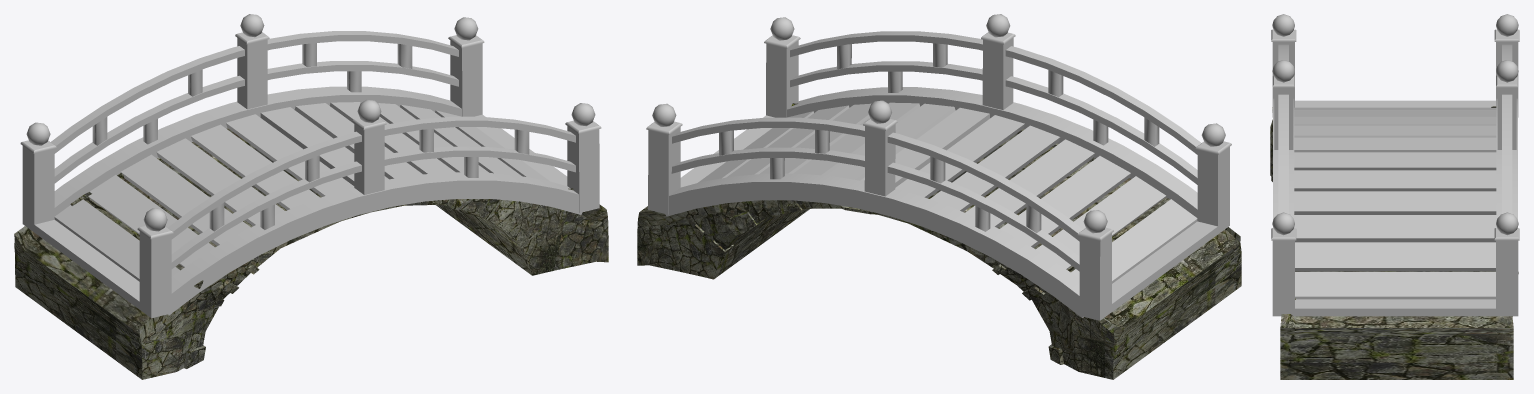
Rendered from bridge_3.202ceef1.glb.
3 renders of one model, left to right at view 1: azimuth 30°, elevation 25°; view 2: azimuth 150°, elevation 25°; view 3: azimuth 270°, elevation 25°, orthographic. The views are drawn at different scales.
Parts seen in each view (by area): view 1: bridge_wood_1, Cube.001; view 2: bridge_wood_1, Cube.001; view 3: bridge_wood_1, Cube.001.
Boxes of the visible parts, <box> form: bridge_wood_1: <box>20,14,601,318</box>; Cube.001: <box>14,128,608,379</box>; bridge_wood_1: <box>646,14,1231,320</box>; Cube.001: <box>637,103,1241,379</box>; bridge_wood_1: <box>1271,14,1519,316</box>; Cube.001: <box>1270,106,1518,379</box>.
Bounding box in the file's own units: 355 × 157 × 170.
Materials: 2 (1 with a texture image).
